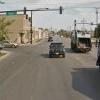Traffic light: (52, 3, 68, 19)
